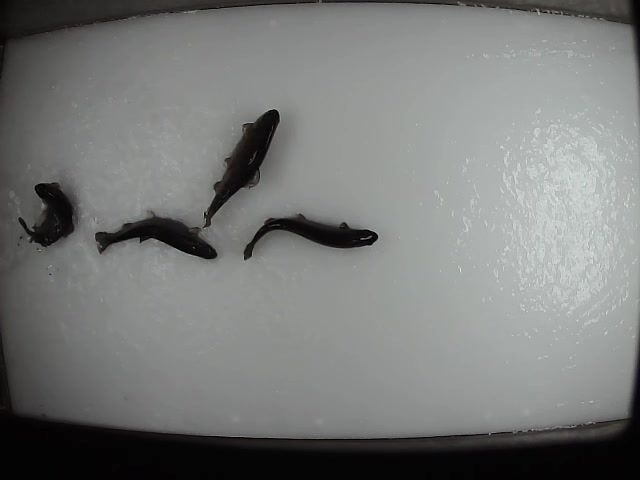Fish: (202, 109, 280, 228), (244, 213, 378, 260), (95, 211, 217, 259), (18, 182, 73, 247)
